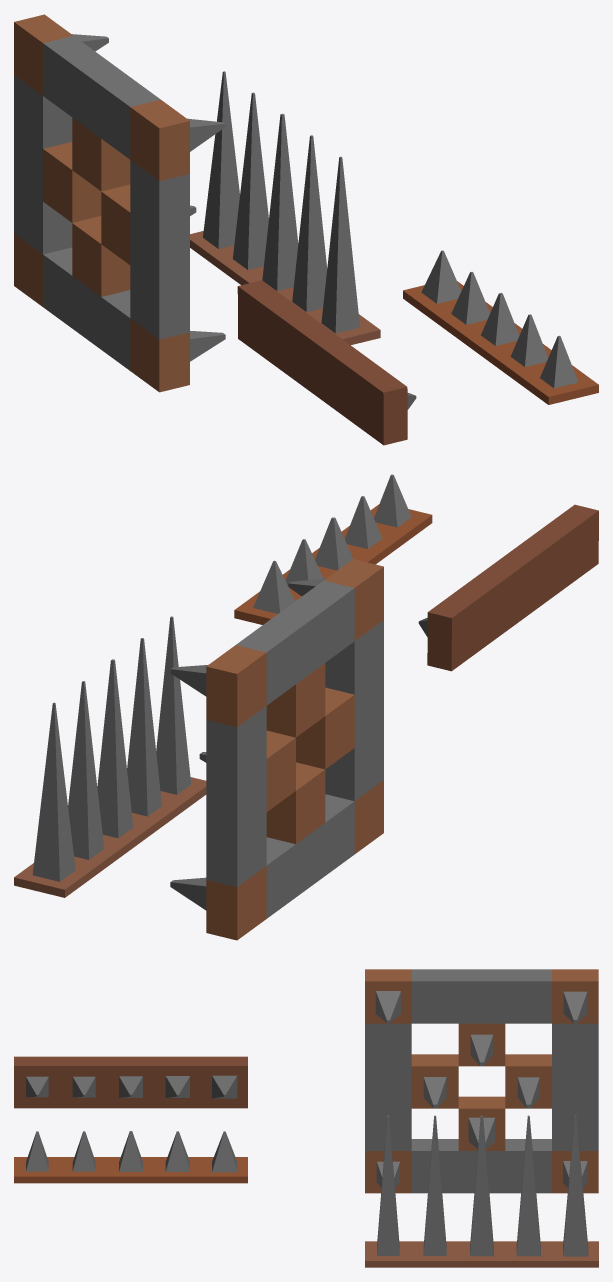
The model's file is Шипы.fbx.
3 renders of one model, top to bottom at view 1: azimuth 30°, elevation 25°; view 2: azimuth 150°, elevation 25°; view 3: azimuth 270°, elevation 25°, orthographic. The views are drawn at different scales.
Visible parts, largest first — view 1: Cube.005, Cube.004, Cube.003, Cube.001; view 2: Cube.005, Cube.004, Cube.003, Cube.001; view 3: Cube.005, Cube.004, Cube.003, Cube.001.
Part boxes in pixels (x1,y1,x2,y2): Cube.005: (14, 14, 225, 392); Cube.004: (190, 71, 380, 345); Cube.003: (237, 280, 416, 445); Cube.001: (403, 250, 598, 404); Cube.005: (170, 559, 383, 940); Cube.004: (14, 616, 206, 897); Cube.003: (418, 504, 598, 671); Cube.001: (234, 474, 432, 624); Cube.005: (365, 969, 598, 1193); Cube.004: (365, 1115, 598, 1267); Cube.003: (14, 1056, 247, 1108); Cube.001: (14, 1131, 247, 1183).
Bounding box in the file's own units: 876 × 1001 × 2501.
